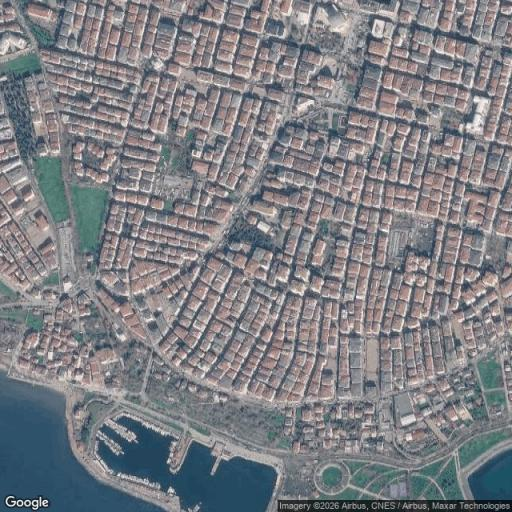ship: (114, 412, 171, 435), (118, 473, 159, 489), (94, 441, 113, 475), (108, 419, 137, 439), (96, 433, 120, 456), (105, 422, 132, 442), (98, 429, 121, 449), (167, 486, 175, 495), (193, 503, 202, 511), (170, 441, 177, 451), (166, 457, 171, 464), (169, 452, 174, 458)
